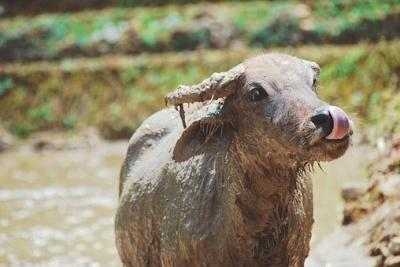buffalo: (115, 53, 352, 266)
